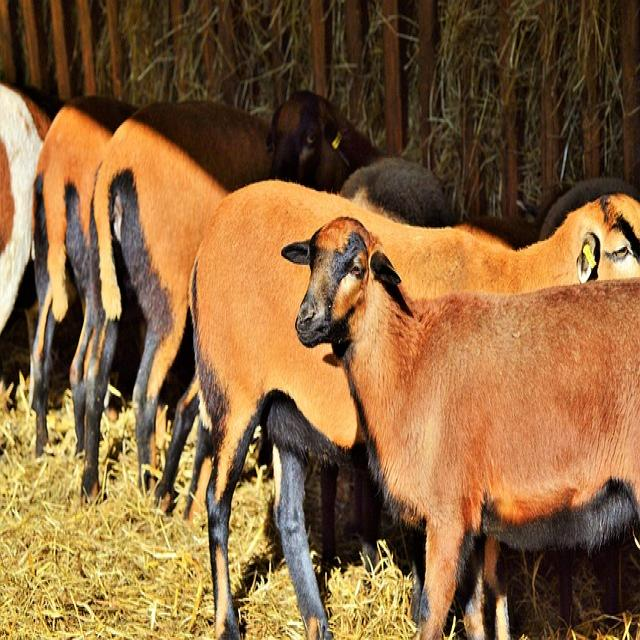sheep: (279, 206, 639, 638), (89, 89, 384, 516), (28, 93, 139, 503), (0, 80, 54, 405)
